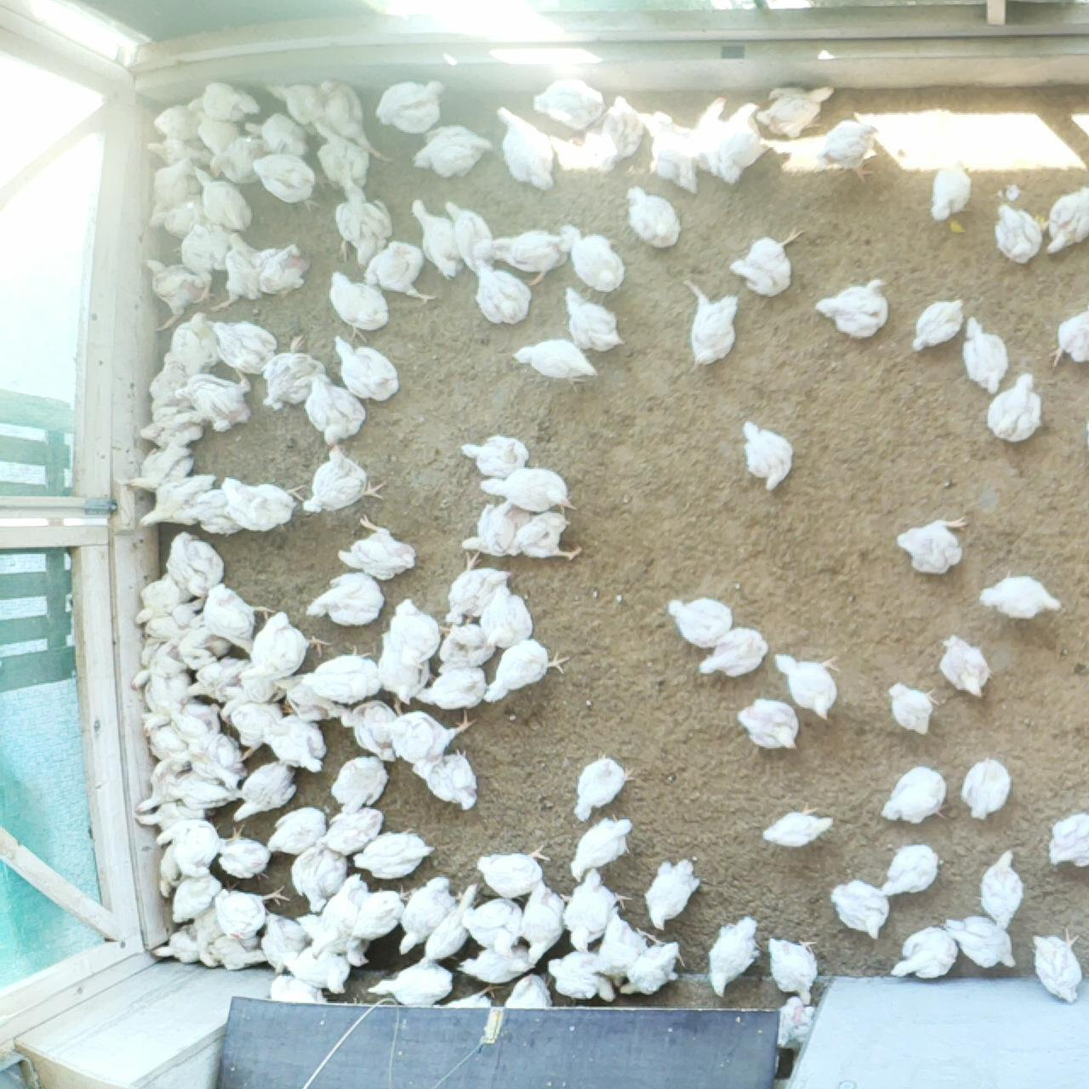chicken: (231, 610, 326, 685), (670, 275, 741, 375), (480, 633, 572, 708), (768, 643, 846, 730), (296, 441, 384, 517), (379, 700, 476, 767), (729, 220, 807, 302), (322, 75, 396, 160), (556, 867, 629, 952), (310, 869, 372, 969), (420, 878, 488, 969), (199, 577, 277, 656), (442, 544, 514, 628), (489, 106, 559, 192), (334, 513, 419, 582), (889, 512, 973, 581), (392, 869, 455, 961), (170, 363, 254, 432), (971, 566, 1069, 625), (580, 92, 646, 177), (359, 238, 440, 307), (567, 746, 635, 828), (140, 254, 207, 336), (755, 77, 837, 144), (262, 333, 331, 412), (814, 272, 895, 339), (1023, 922, 1086, 1008), (565, 813, 639, 886), (980, 368, 1047, 448), (593, 905, 655, 991), (754, 797, 841, 858), (211, 879, 291, 945), (332, 331, 403, 405), (661, 589, 743, 653), (640, 856, 703, 939), (884, 922, 964, 987), (823, 872, 892, 947), (412, 120, 494, 183), (943, 911, 1023, 975), (706, 912, 764, 1000), (561, 224, 628, 300), (478, 466, 579, 516), (137, 471, 221, 531), (877, 760, 951, 828), (458, 940, 540, 1001), (353, 822, 439, 880), (512, 332, 598, 390), (490, 226, 570, 288), (362, 956, 459, 1007), (304, 569, 386, 629), (336, 692, 404, 764), (372, 626, 433, 706), (737, 417, 801, 493), (299, 643, 380, 703), (214, 474, 295, 534), (617, 931, 684, 1003), (536, 944, 615, 1005), (334, 183, 392, 266), (409, 747, 483, 812), (326, 267, 391, 341), (305, 371, 369, 446), (408, 197, 467, 278), (560, 284, 629, 353), (375, 75, 450, 138), (289, 838, 351, 914), (226, 757, 295, 825), (254, 713, 329, 775), (732, 692, 804, 756), (938, 626, 995, 706), (467, 255, 531, 326), (720, 97, 772, 184), (475, 836, 549, 897), (459, 497, 533, 558), (210, 230, 265, 312), (218, 698, 285, 765), (649, 108, 701, 194), (250, 150, 322, 212), (976, 844, 1025, 935), (294, 908, 369, 967), (188, 163, 253, 231), (765, 934, 827, 1005), (440, 195, 494, 276), (817, 117, 881, 185), (385, 590, 443, 665), (153, 816, 222, 878), (283, 938, 353, 999), (309, 118, 370, 188), (520, 877, 569, 964), (875, 842, 947, 901), (529, 73, 602, 131), (459, 892, 525, 956), (122, 439, 196, 496), (212, 314, 281, 375), (623, 182, 684, 251), (696, 625, 768, 683), (165, 530, 223, 602), (924, 151, 981, 224), (184, 730, 252, 791), (1041, 174, 1089, 260), (257, 907, 312, 982), (262, 801, 333, 859), (511, 513, 586, 567), (481, 583, 533, 659), (139, 658, 190, 735), (347, 882, 413, 941), (958, 753, 1013, 823), (880, 678, 945, 737), (215, 816, 273, 882), (241, 108, 317, 158), (162, 869, 226, 927), (416, 661, 490, 711), (904, 296, 965, 356), (329, 755, 387, 818), (167, 692, 222, 758), (164, 308, 218, 375), (274, 669, 343, 721), (318, 804, 385, 857), (1037, 802, 1089, 870), (694, 93, 734, 181), (252, 241, 311, 299), (125, 633, 181, 694), (206, 131, 267, 187), (130, 571, 192, 626), (989, 200, 1037, 269), (186, 78, 260, 122), (179, 217, 216, 304), (961, 314, 1003, 390), (764, 994, 823, 1048), (457, 432, 530, 475), (134, 758, 191, 813), (435, 616, 496, 667), (151, 157, 206, 213), (265, 76, 325, 126), (184, 654, 251, 698), (165, 773, 239, 812), (1044, 306, 1089, 370), (132, 799, 209, 835), (137, 407, 205, 447), (145, 196, 206, 239), (200, 934, 267, 971), (265, 967, 329, 1004), (146, 923, 199, 967), (144, 134, 215, 165), (190, 907, 227, 965), (150, 101, 205, 140), (503, 970, 556, 1009), (149, 352, 187, 405), (191, 108, 243, 146), (139, 722, 188, 760), (143, 614, 206, 643), (237, 673, 289, 700)
